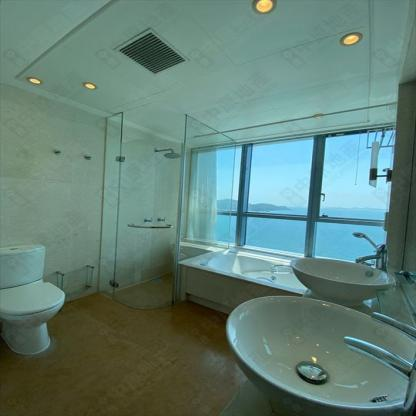Bathtub: (176, 246, 308, 312)
Faucet: (343, 331, 412, 389)
Toilet: (0, 241, 67, 353)
Toilet Sink: (222, 294, 415, 413), (289, 257, 400, 301)
Water Cubicle: (102, 100, 242, 310)
